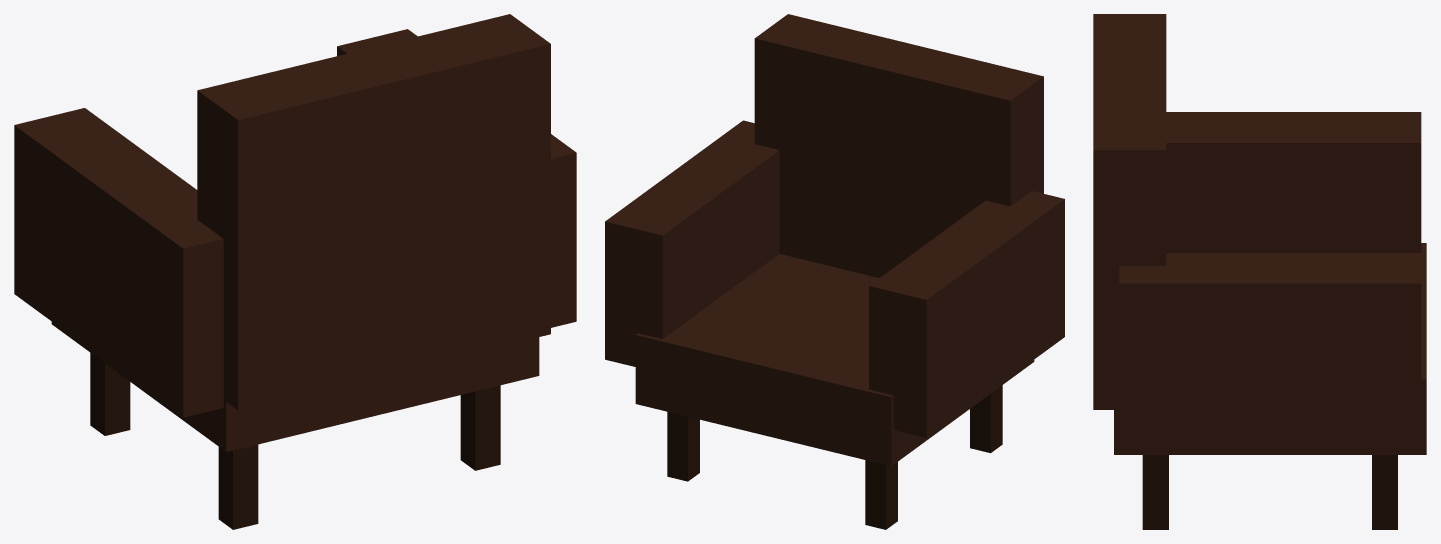
The model's file is welt_sessel.glb.
3 views of the same model, side by side, from view 1: azimuth 30°, elevation 25°; view 2: azimuth 150°, elevation 25°; view 3: azimuth 270°, elevation 25° (orthographic). The views are drawn at different scales.
Parts seen in each view (by area): view 1: lehne, armlehne_l, sitz, armlehne_r, bein_0, bein_1, bein_2; view 2: lehne, sitz, armlehne_l, armlehne_r, bein_2, bein_3, bein_0; view 3: armlehne_r, armlehne_l, lehne, sitz, bein_1, bein_3.
Boxes of the visible parts, x1,y1,x2,y2 form: lehne: (197,14,550,410); armlehne_l: (14,108,223,417); sitz: (51,322,539,451); armlehne_r: (337,29,576,327); bein_0: (218,444,258,529); bein_1: (460,385,500,470); bein_2: (90,353,130,435); lehne: (754,14,1043,277); sitz: (635,254,1034,466); armlehne_l: (869,191,1064,437); armlehne_r: (605,120,779,366); bein_2: (865,460,897,529); bein_3: (667,412,699,481); bein_0: (970,385,1002,453); armlehne_r: (1119,253,1421,434); armlehne_l: (1166,112,1421,252); lehne: (1093,14,1166,409); sitz: (1114,243,1426,454); bein_1: (1142,455,1168,529); bein_3: (1372,455,1397,529).
Size of the model in its own units: 0.78 by 0.825 by 0.64.
